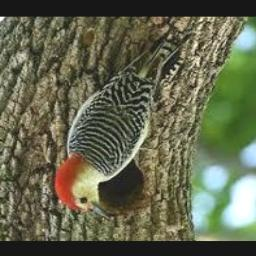Woodpecker: (55, 23, 196, 219)
